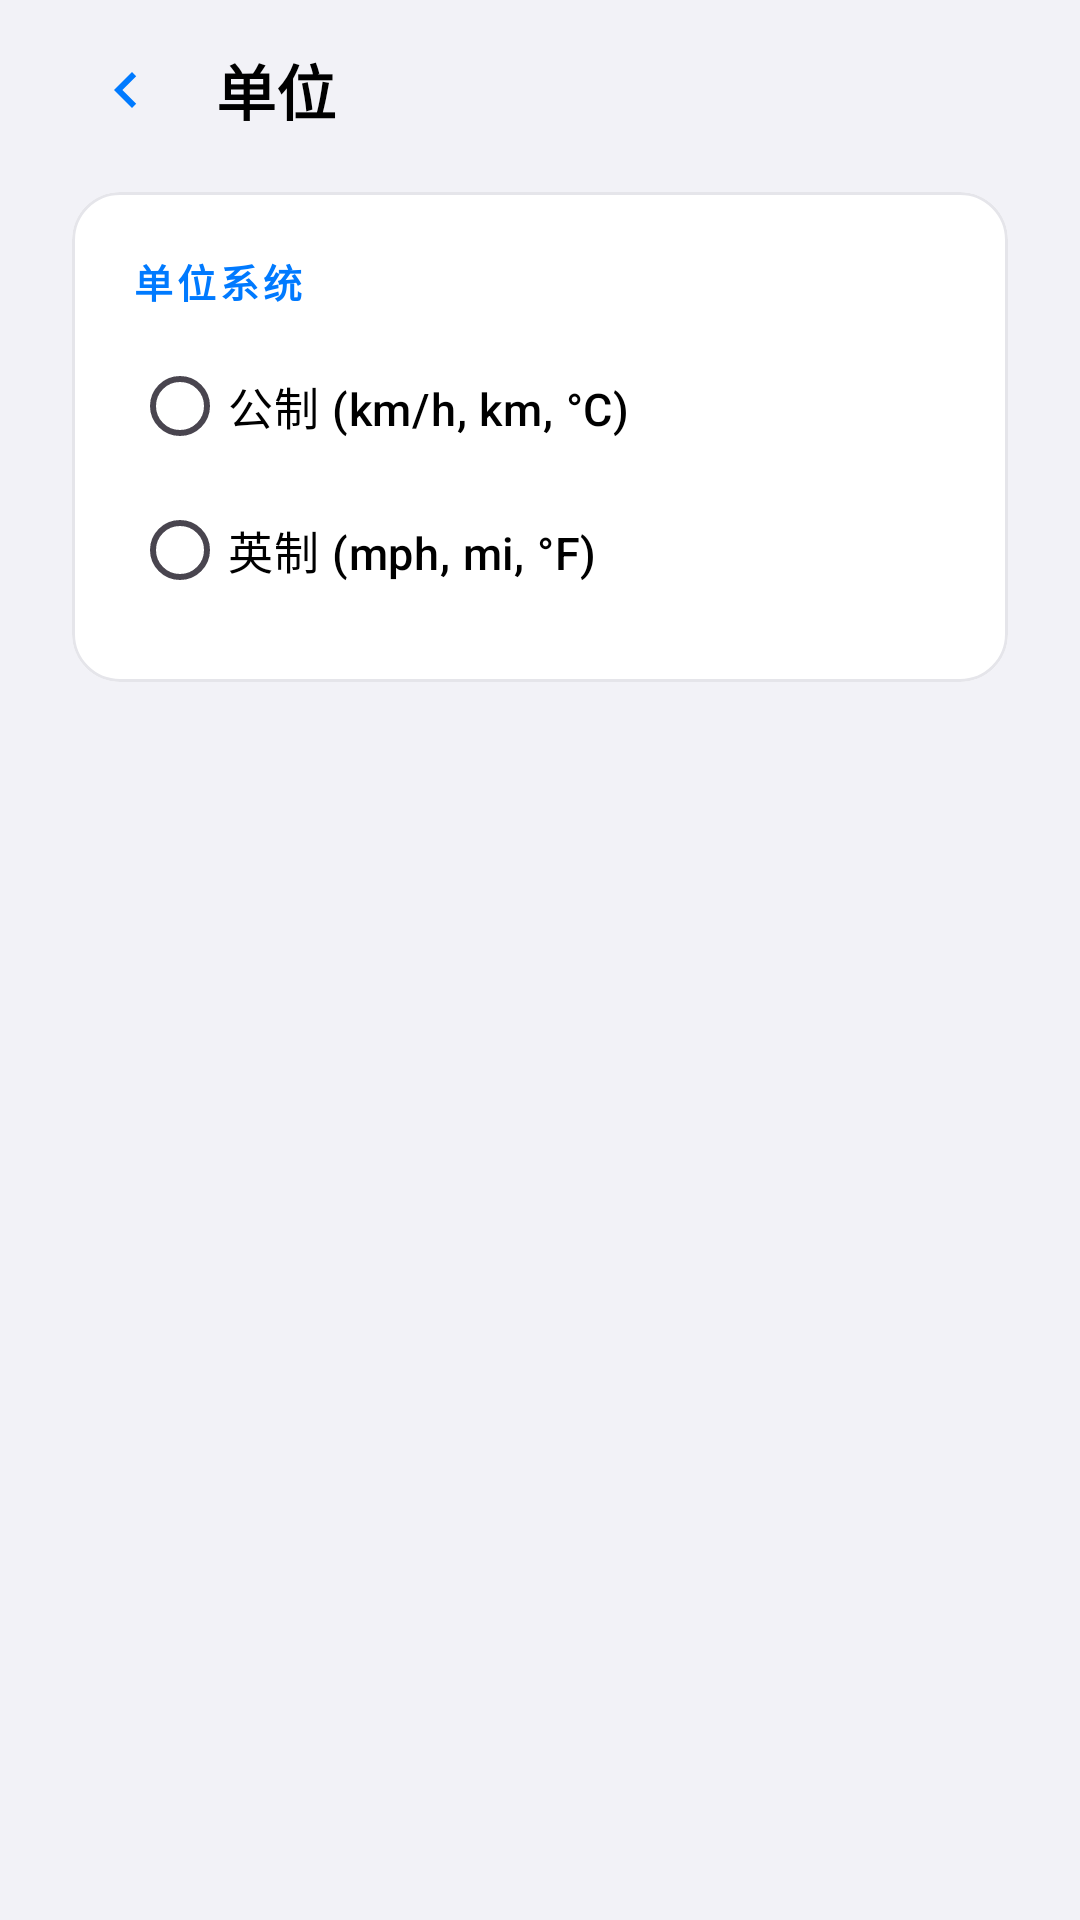

Named icons in this screenshot (1080×1920) and their centers, (x,y):
返回: (125,90)
